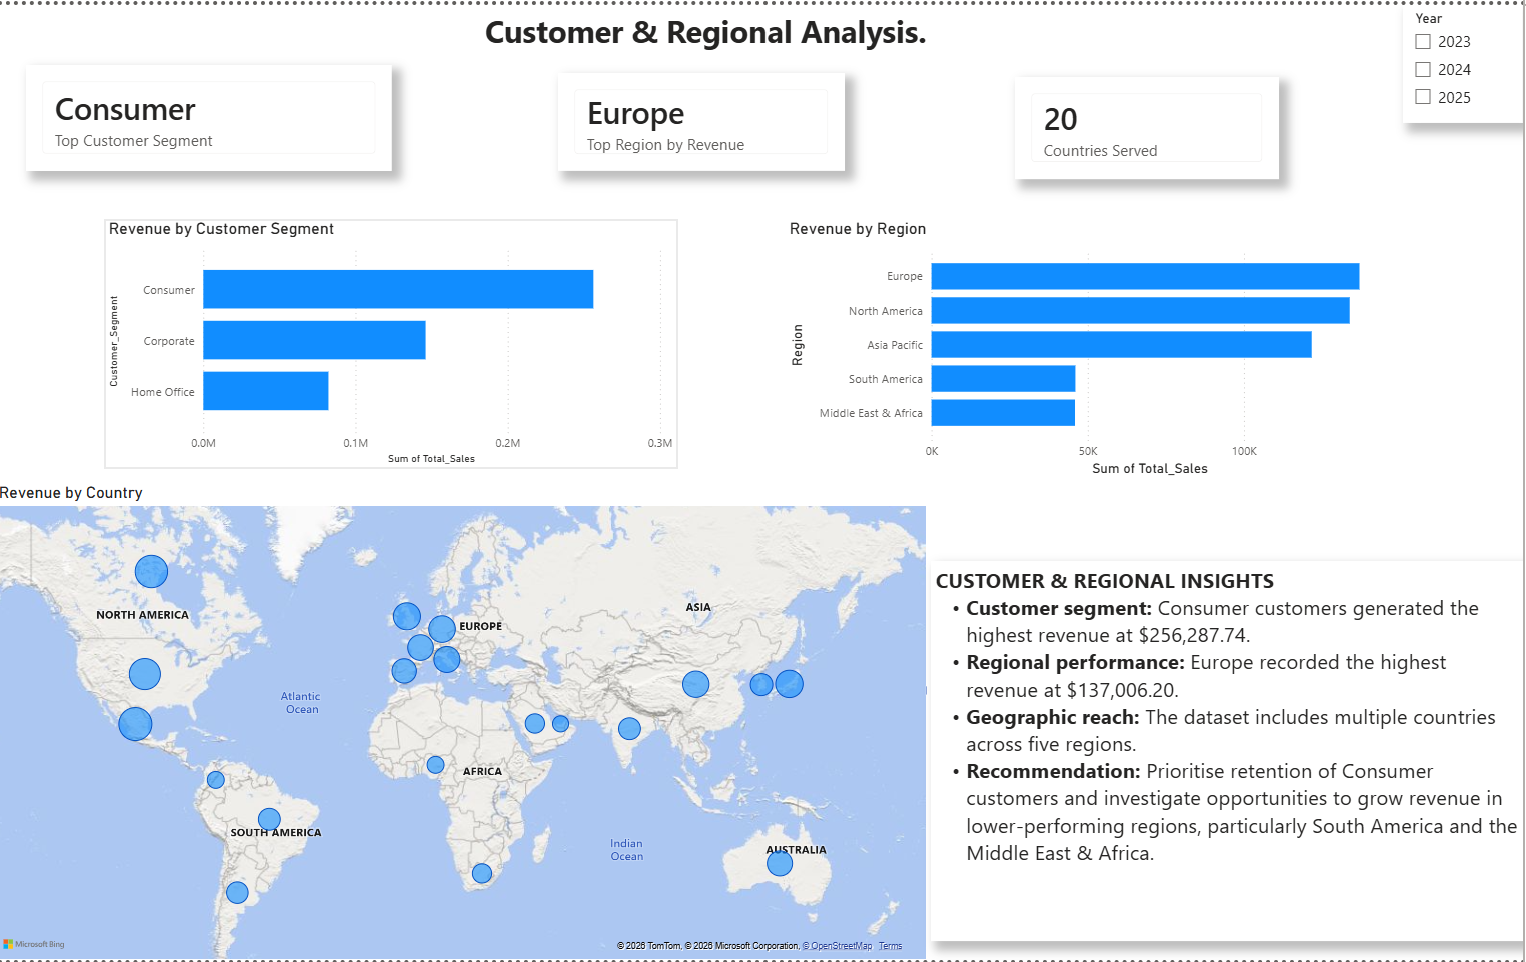

What the dashboard file says about the page in this screenshot:
{"tool":"powerbi","page":{"name":"Page 3","canvas":[1600,1000],"ordinal":2},"visuals":[{"type":"clusteredBarChart","title":"Revenue by Customer Segment","fields":{"Y":["Sum(global_ecommerce_sales.Total_Sales)"],"Category":["global_ecommerce_sales.Customer_Segment"]},"box":[115.2,224.1,601,261.8],"z":0},{"type":"clusteredBarChart","title":"Revenue by Region","fields":{"Category":["global_ecommerce_sales.Region"],"Y":["Sum(global_ecommerce_sales.Total_Sales)"]},"box":[827.2,224.1,630.4,274.3],"z":1000},{"type":"slicer","fields":{"Values":["global_ecommerce_sales.Order_Date.Variation.Date Hierarchy.Year"]},"box":[1474.3,0,125.7,123.6],"z":2000},{"type":"map","title":" Revenue by Country","fields":{"Category":["global_ecommerce_sales.Country"],"Size":["global_ecommerce_sales.Total Revenue"]},"box":[0,500.5,980.1,502.6],"z":3000},{"type":"textbox","box":[980.1,582.2,619.9,397.9],"z":5000},{"type":"textbox","box":[201,0,1078.5,150.8],"z":6000},{"type":"cardVisual","fields":{"Data":["global_ecommerce_sales.Top Region by Revenue"]},"box":[590.6,71.2,299.5,102.6],"z":7000},{"type":"cardVisual","fields":{"Data":["global_ecommerce_sales.Countries Served"]},"box":[1068.1,75.4,276.4,106.8],"z":8000},{"type":"cardVisual","fields":{"Data":["global_ecommerce_sales.Top Customer Segment"]},"box":[33.5,62.8,383.2,111],"z":8001}]}

Visuals, with their boxes in screenshot pixels (x1, y1, x2, y2), scaled from the page's 1600x1000 canvas onto the 1526x962 screenshot:
"Revenue by Customer Segment" clusteredBarChart: region(110, 216, 683, 467)
"Revenue by Region" clusteredBarChart: region(789, 216, 1390, 479)
slicer - global_ecommerce_sales.Order_Date.Variation.Date Hierarchy.Year: region(1406, 0, 1525, 119)
" Revenue by Country" map: region(0, 481, 935, 961)
textbox: region(935, 560, 1525, 943)
textbox: region(192, 0, 1220, 145)
cardVisual - global_ecommerce_sales.Top Region by Revenue: region(563, 68, 849, 167)
cardVisual - global_ecommerce_sales.Countries Served: region(1019, 73, 1282, 175)
cardVisual - global_ecommerce_sales.Top Customer Segment: region(32, 60, 397, 167)
